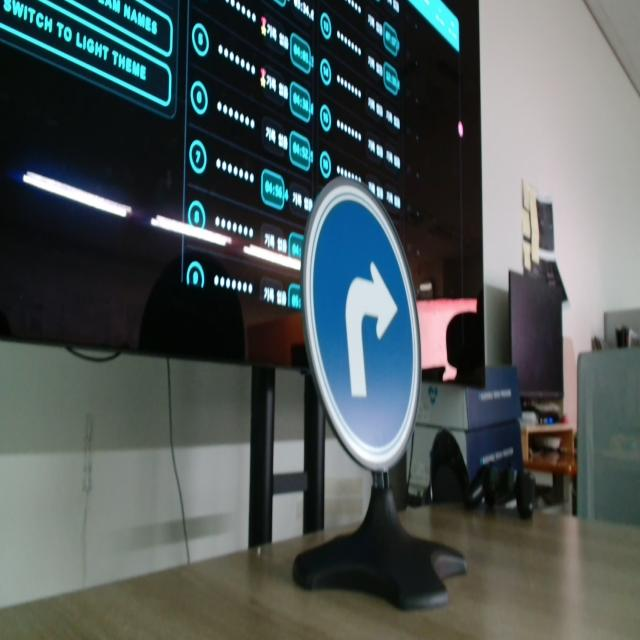right_dierection: (298, 172, 425, 477)
